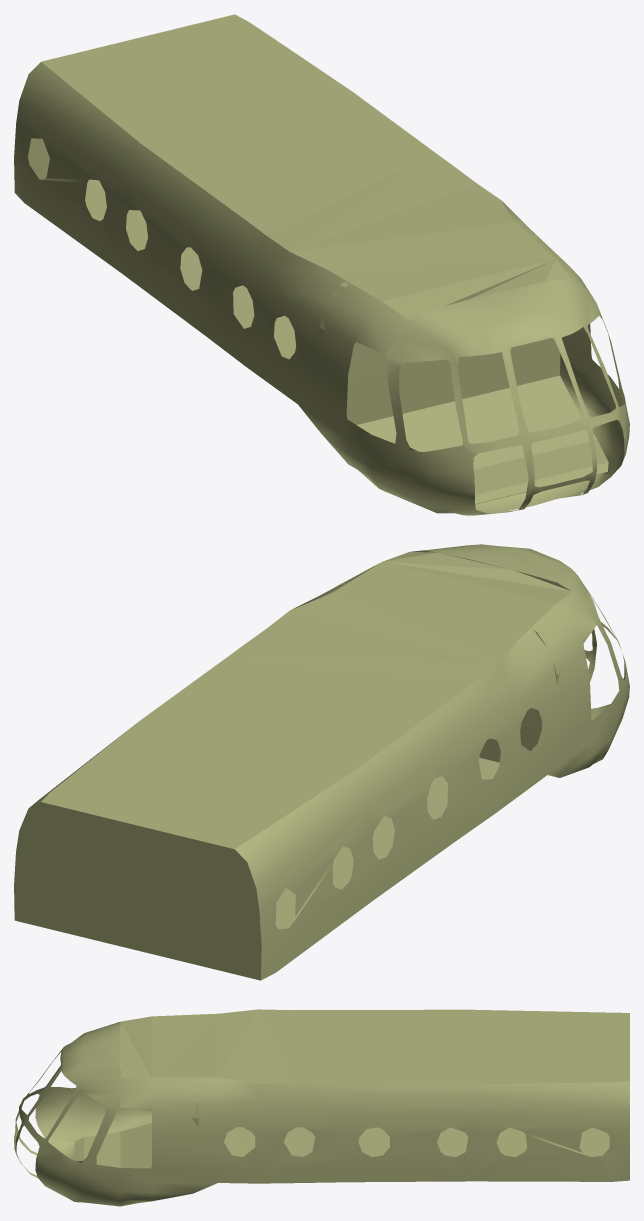
The model's file is m_airlift_4ba06cb9.glb.
3 renders of one model, top to bottom at view 1: azimuth 30°, elevation 25°; view 2: azimuth 150°, elevation 25°; view 3: azimuth 270°, elevation 25°, orthographic. The views are drawn at different scales.
Visible parts, largest first — view 1: mesh; view 2: mesh; view 3: mesh.
Boxes of the visible parts, box(x1,y1,x2,y2) form: mesh: box(14, 14, 629, 515); mesh: box(14, 544, 629, 980); mesh: box(14, 1009, 629, 1206).
Size of the model in its own units: 2211 by 1540 by 6495.
